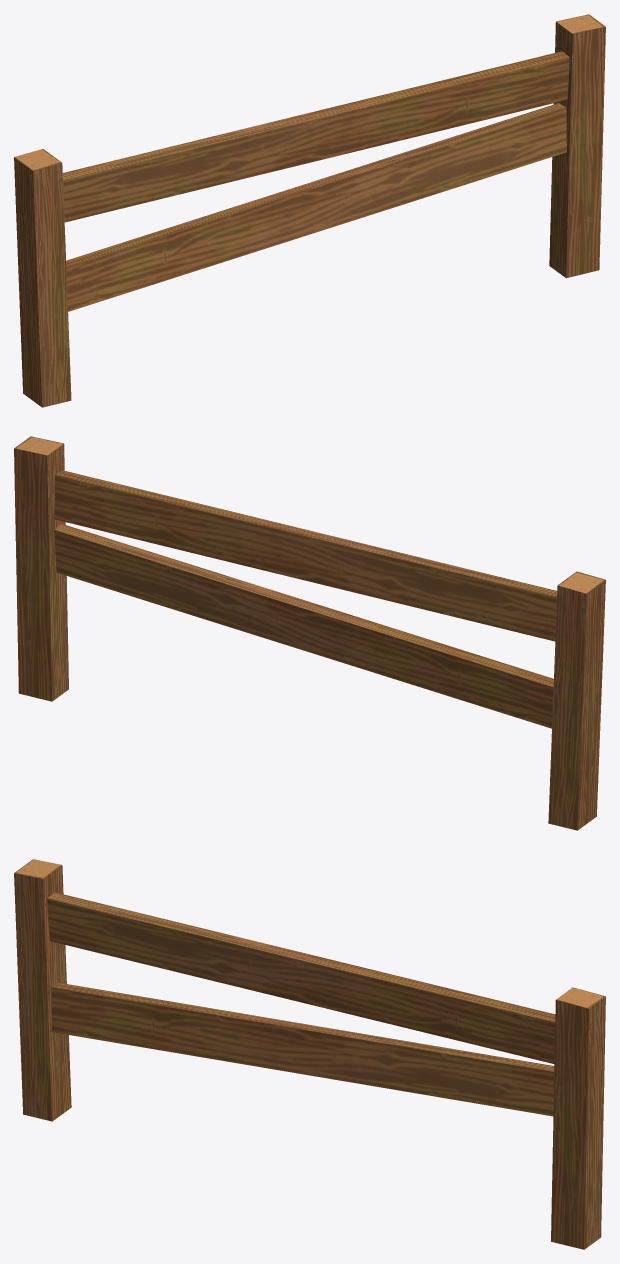
Rendered from Prop_WoodenFence_Single.glb.
3 renders of one model, top to bottom at view 1: azimuth 30°, elevation 25°; view 2: azimuth 150°, elevation 25°; view 3: azimuth 330°, elevation 25°, orthographic.
Parts seen in each view (by area): view 1: Prop_WoodenFence_Single; view 2: Prop_WoodenFence_Single; view 3: Prop_WoodenFence_Single.
Part boxes in pixels (x1,y1,x2,y2): Prop_WoodenFence_Single: (14, 14, 605, 407); Prop_WoodenFence_Single: (14, 436, 605, 830); Prop_WoodenFence_Single: (14, 859, 605, 1249).
Bounding box in the file's own units: 2.06 × 0.8381 × 0.1198.
1 material, 1 textured.
